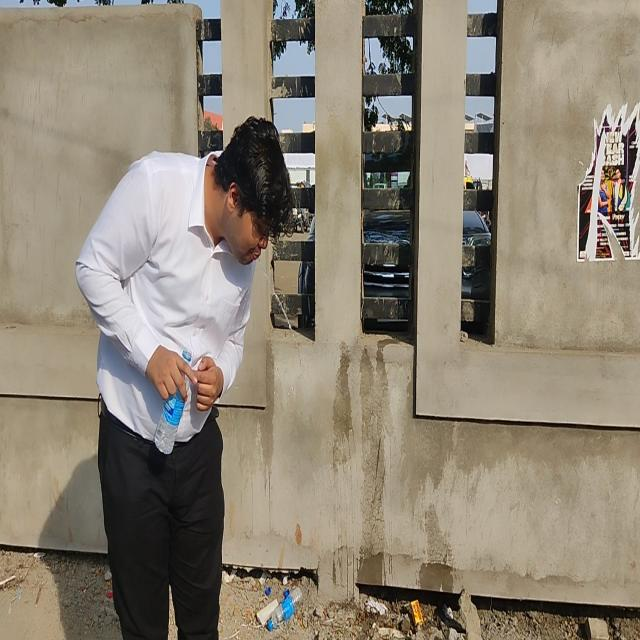spit: (199, 102, 321, 393)
